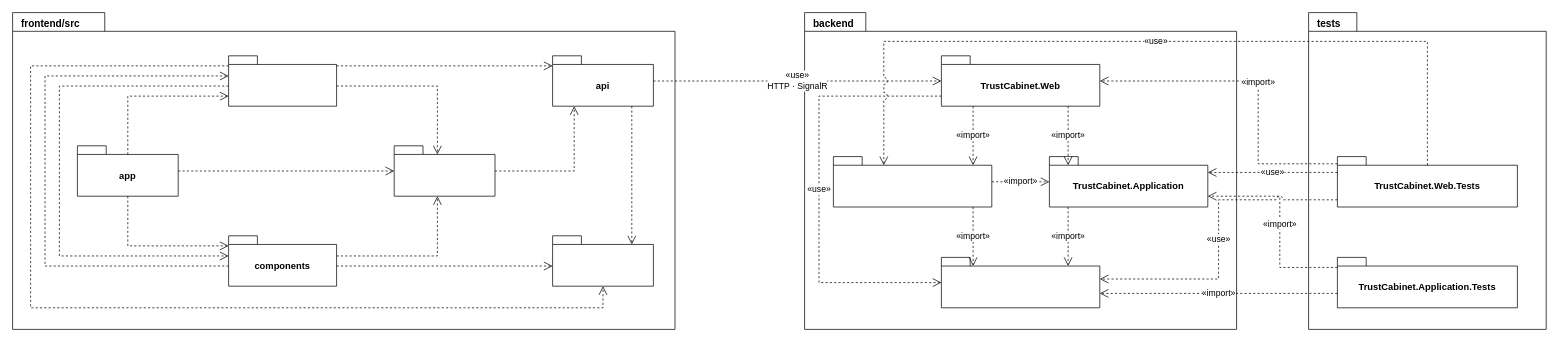
The diagram is 1559 pixels wide and 342 high, and some of its shapes have lost their labels. Each missing label, with the centre of its shape:
"features" belongs at pixel 282 80.
"lib" belongs at pixel 444 170.
"TrustCabinet.Domain" belongs at pixel 1020 282.
"TrustCabinet.Infrastructure" belongs at pixel 912 181.
"types" belongs at pixel 602 260.
